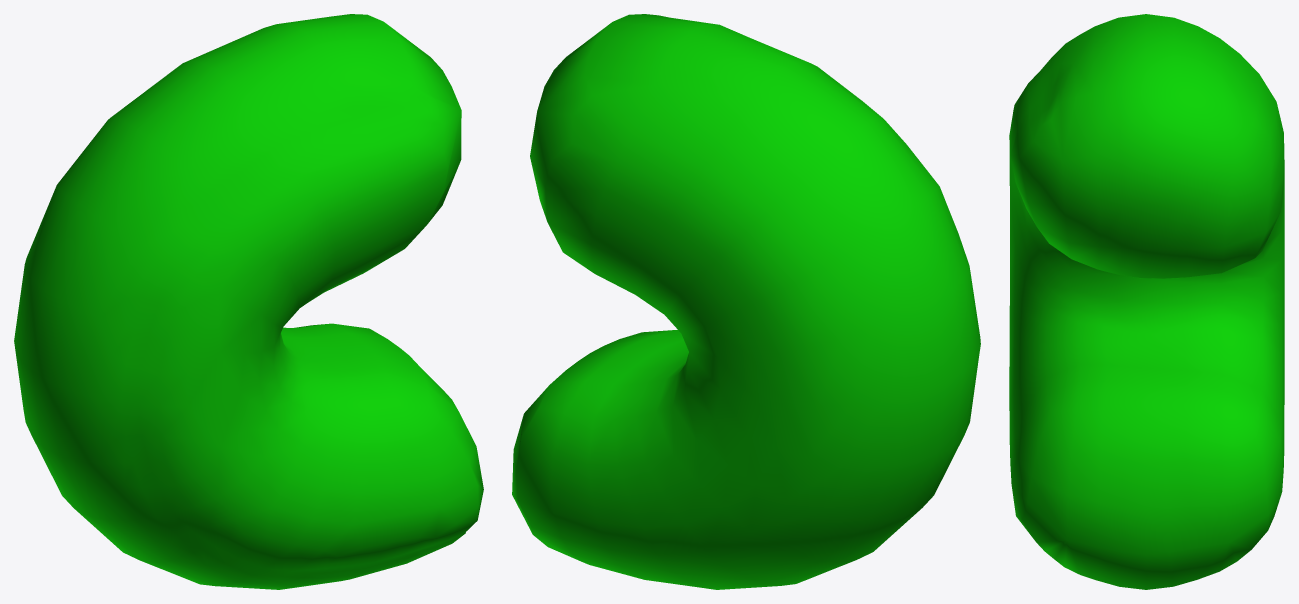
3 renders of one model, left to right at view 1: azimuth 30°, elevation 25°; view 2: azimuth 150°, elevation 25°; view 3: azimuth 270°, elevation 25°, orthographic. The views are drawn at different scales.
Visible parts, largest first — view 1: C_2; view 2: C_2; view 3: C_2.
Boxes of the visible parts, <box> form: C_2: <box>14,14,483,589</box>; C_2: <box>512,14,980,589</box>; C_2: <box>1009,14,1284,589</box>.
Size of the model in its own units: 78.21 by 96.27 by 46.65.
